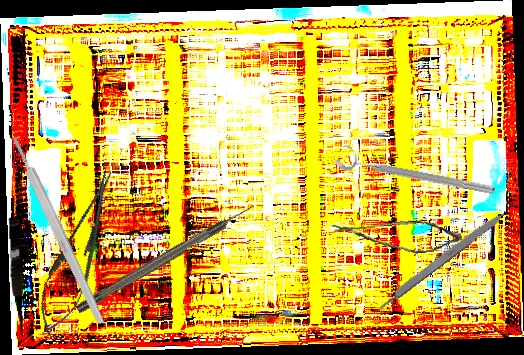Fixation Ring: (332, 141, 499, 200)
Hook Surgical: (74, 202, 257, 314)
Micro Scissor: (330, 209, 463, 264), (5, 216, 28, 338)
Needle Holder: (28, 164, 128, 342)
Scalpel Handle: (9, 134, 107, 326), (373, 206, 510, 313)
